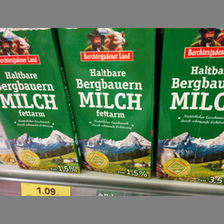milk: (59, 28, 156, 184), (1, 27, 84, 174), (156, 29, 224, 184)
